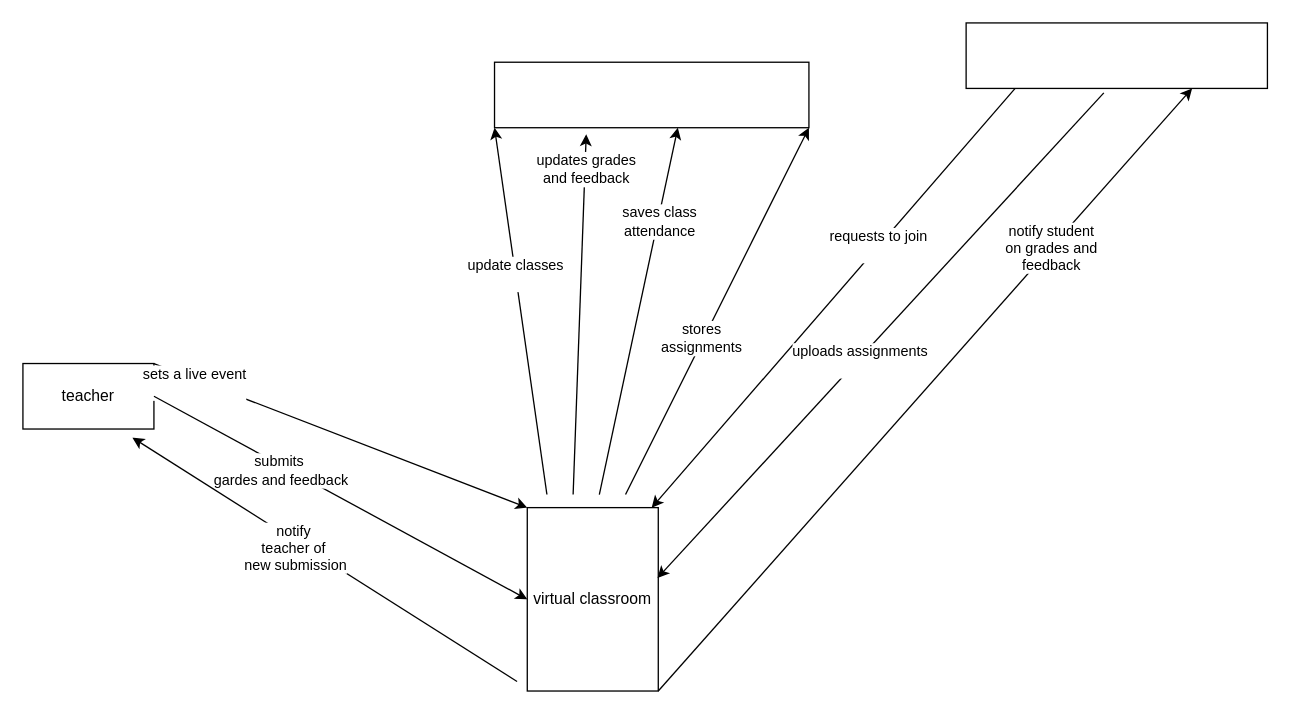
Some shapes in this 1290 by 724 pixel diagram are drawn without their labels. The shapes that lost their labels are listed below. From the top down, each one's centre as x and y in pixels, then its label:
At point (1116, 55): "students".
At point (651, 94): "learning management".
